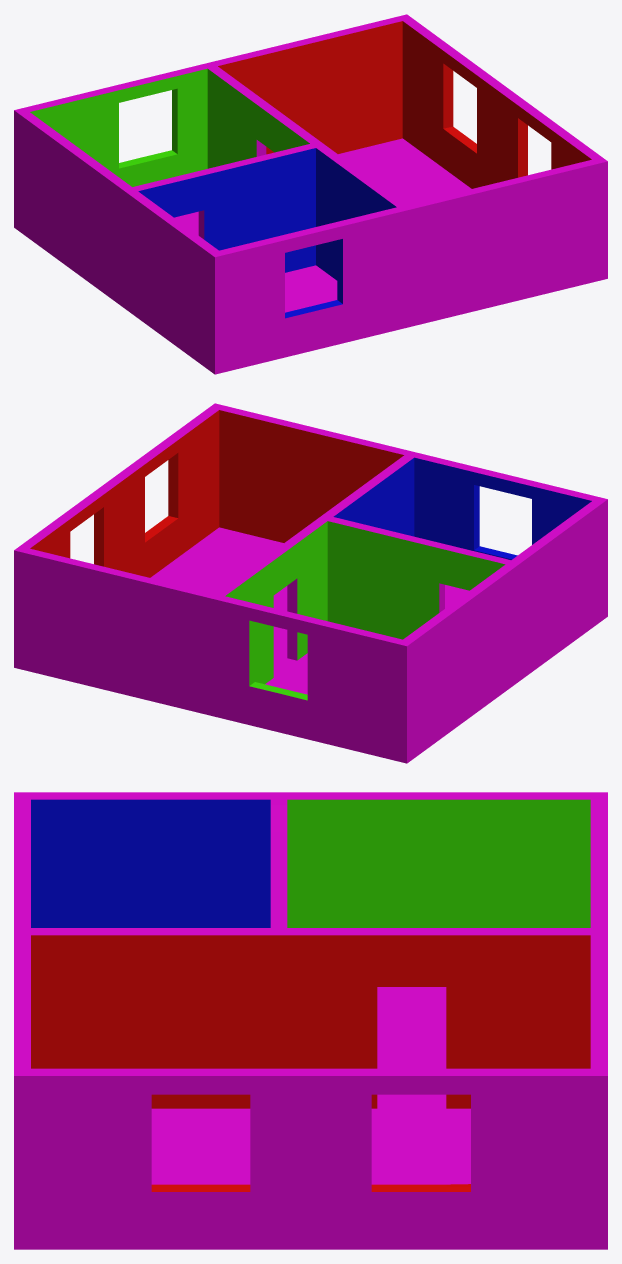
Rendered from WALLS_FLOOR_FIXED.fbx.
3 renders of one model, top to bottom at view 1: azimuth 30°, elevation 25°; view 2: azimuth 150°, elevation 25°; view 3: azimuth 270°, elevation 25°, orthographic. The views are drawn at different scales.
Visible parts, largest first — view 1: Plane.025; view 2: Plane.025; view 3: Plane.025.
Part boxes in pixels (x1,y1,x2,y2): Plane.025: (14,14,607,374); Plane.025: (14,403,607,763); Plane.025: (14,792,607,1249).
Bounding box in the file's own units: 881 × 252 × 780.
